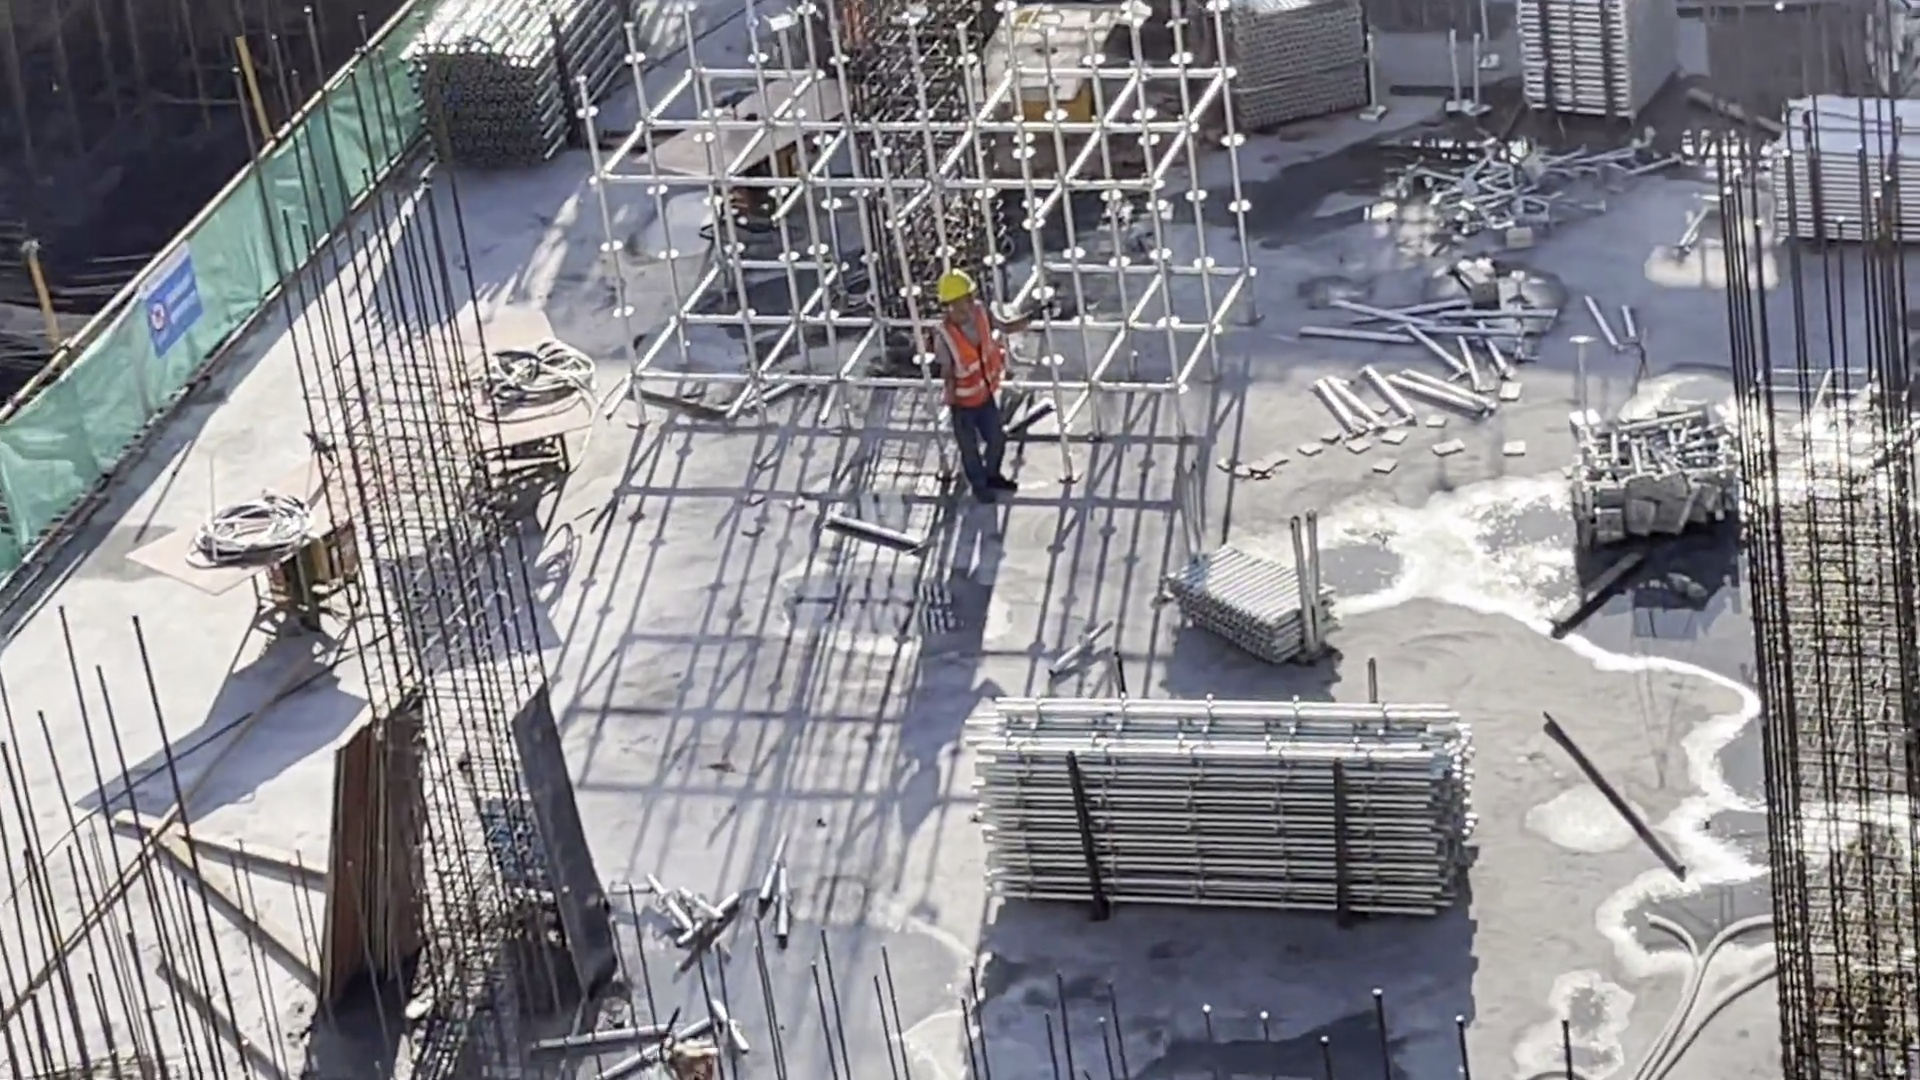board: (288, 680, 439, 1008)
cutter: (119, 426, 434, 652), (638, 67, 892, 254), (392, 305, 604, 527), (945, 4, 1140, 182)
helmet: (930, 271, 977, 309)
person: (929, 258, 1025, 504)
scaffold: (978, 695, 1477, 919), (421, 3, 659, 154), (1559, 407, 1747, 551), (1759, 90, 1920, 247), (1171, 531, 1348, 664), (1525, 1, 1696, 132), (1223, 1, 1385, 121)
slogan: (133, 223, 223, 363)
vest: (939, 324, 1005, 410)
